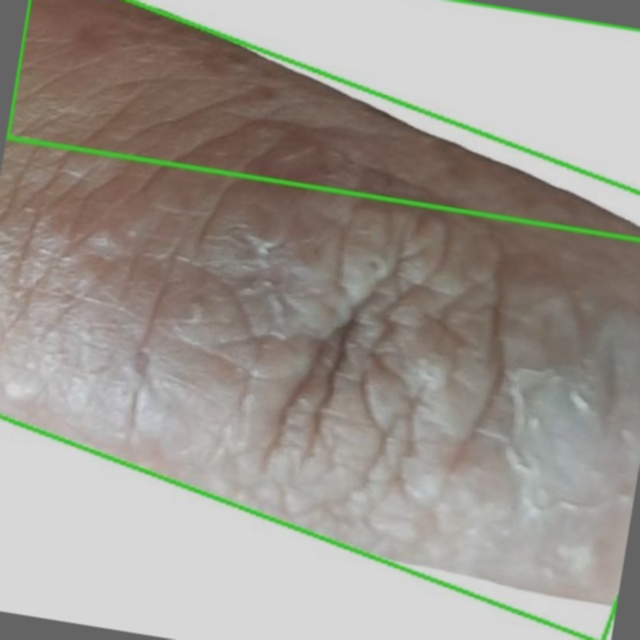Eczema: (0, 0, 639, 639), (7, 0, 639, 240)
